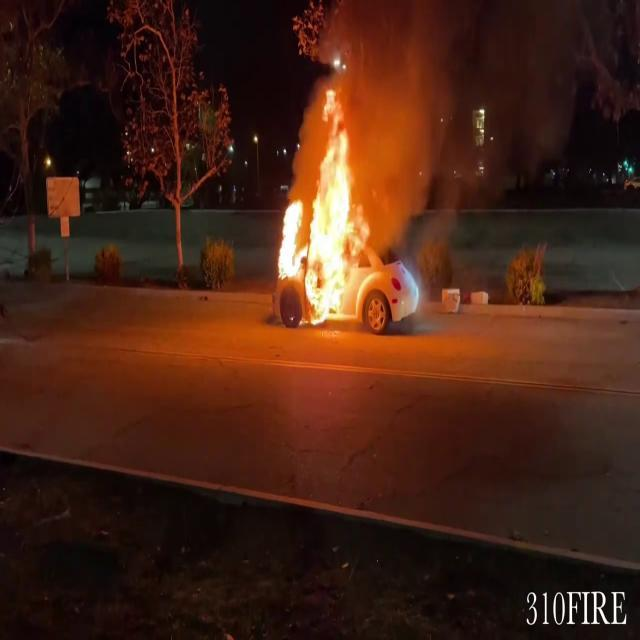Fire: (271, 104, 385, 322)
Smoke: (328, 0, 479, 220)
